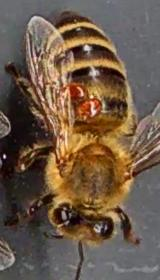varroa_mite: (72, 94, 104, 128), (66, 77, 87, 100)
